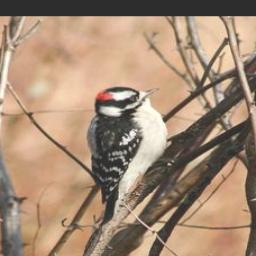Woodpecker: (88, 86, 174, 227)
